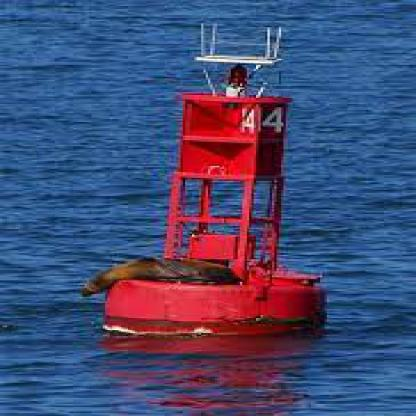buoy: (87, 18, 340, 341)
